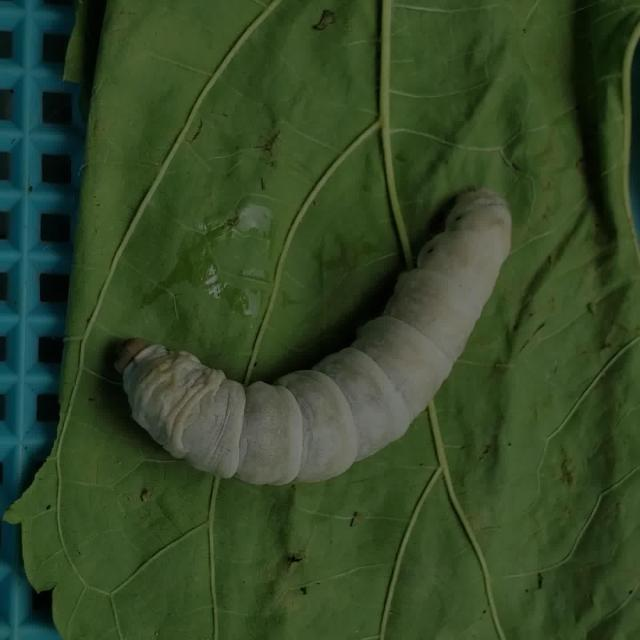Grasserie: (109, 183, 518, 488)
